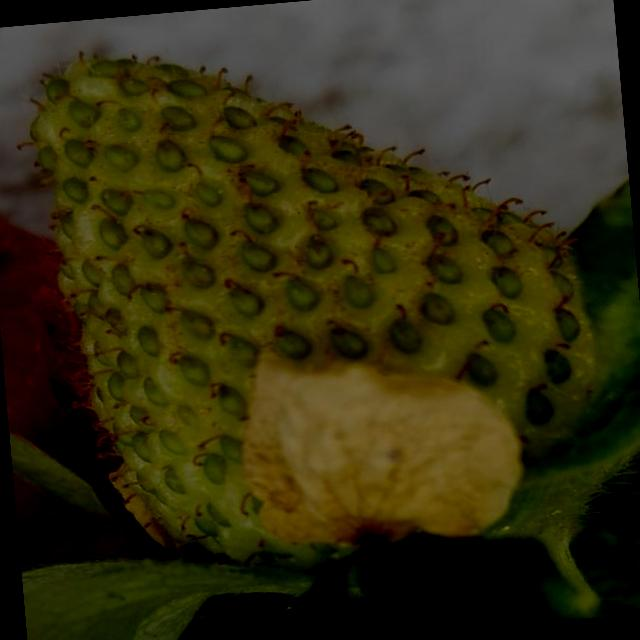Strawberry: (20, 12, 618, 624), (0, 201, 148, 588)
